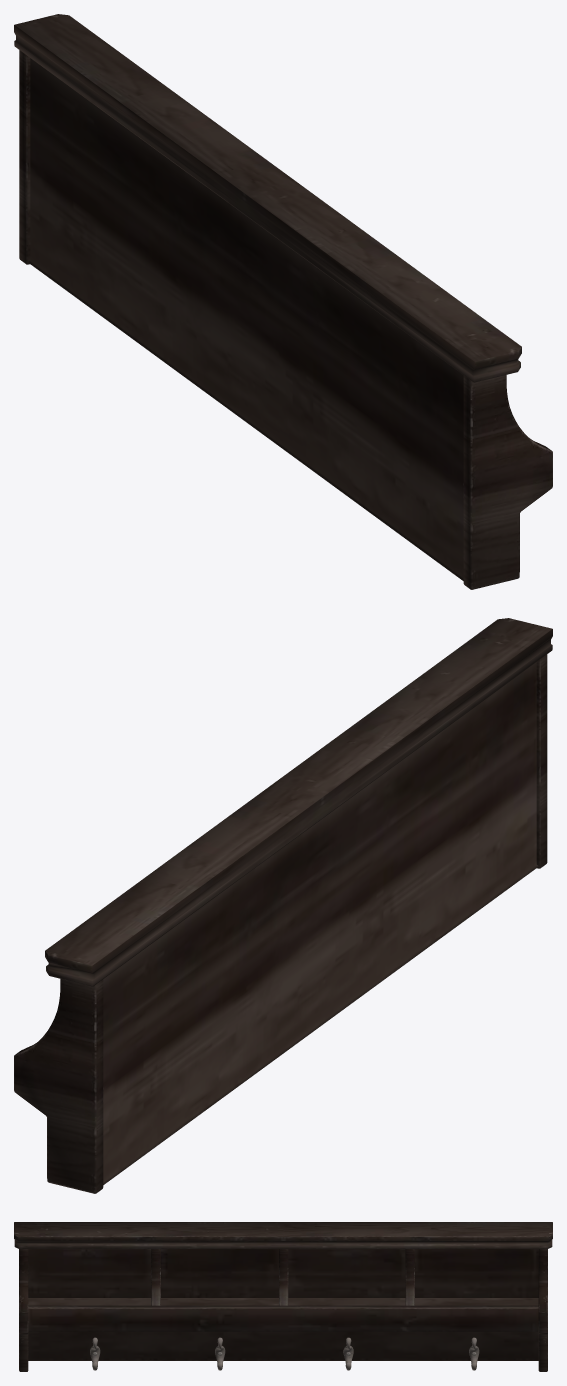
The model's file is old_coat_rack.glb.
The picture shows the model from 3 angles, top to bottom: view 1: azimuth 30°, elevation 25°; view 2: azimuth 150°, elevation 25°; view 3: azimuth 270°, elevation 25°; orthographic projection. The views are drawn at different scales.
Parts seen in each view (by area): view 1: SM_ CoatRack_01_A; view 2: SM_ CoatRack_01_A; view 3: SM_ CoatRack_01_A.
Part boxes in pixels (x1,y1,x2,y2): SM_ CoatRack_01_A: (14,14,552,589); SM_ CoatRack_01_A: (14,618,552,1193); SM_ CoatRack_01_A: (14,1222,552,1371).
Bounding box in the file's own units: 0.1254 × 0.3401 × 1.2.
Materials: 1 (1 with a texture image).
